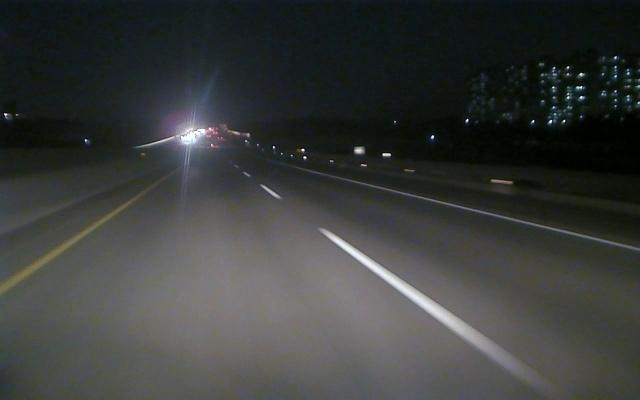lane: (260, 185, 550, 396), (352, 180, 640, 254), (1, 207, 122, 294)
